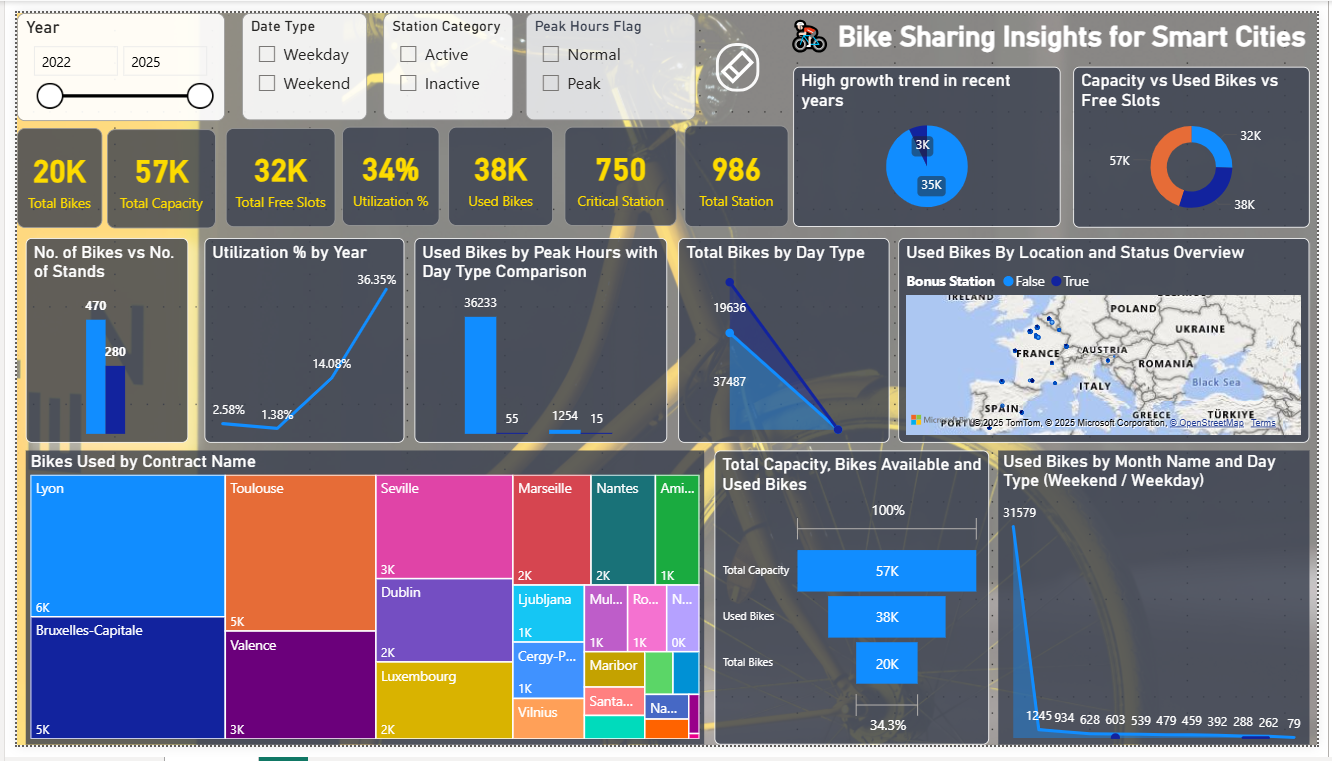

Layout of this report page (visuals, bound fields, positions):
{"tool":"powerbi","page":{"name":"Page 1","canvas":[1280,720],"ordinal":0},"visuals":[{"type":"card","fields":{"Values":["Bike_Measures.Total Bikes"]},"box":[0,113.2,83.7,98.5],"z":0},{"type":"card","fields":{"Values":["Bike_Measures.Total Stands"]},"box":[205.5,113.2,108.3,97.2],"z":1000},{"type":"card","fields":{"Values":["Bike_Measures.Total Capacity"]},"box":[88.6,114.5,107.1,97.2],"z":2000},{"type":"card","fields":{"Values":["Bike_Measures.Utilization %"]},"box":[320,112,96,97.2],"z":3000},{"type":"card","fields":{"Values":["Bike_Measures.Critical Station"]},"box":[539.1,112,110.8,97.2],"z":4000},{"type":"card","fields":{"Values":["Bike_Measures.Used Bikes"]},"box":[424.6,112,103.4,97.2],"z":5000},{"type":"textbox","title":"🚴🏻 Bike Sharing Insights for Smart Cities ","box":[744.6,0,535.4,52.9],"z":6000},{"type":"clusteredColumnChart","title":"No. of Bikes vs No. of Stands","fields":{"Y":["Bike_Measures.No_Bike_Station","Bike_Measures.No_of_Stand_Station"]},"box":[8.6,221.5,160,201.8],"z":7000},{"type":"donutChart","title":"Capacity vs Used Bikes vs Free Slots","fields":{"Y":["Bike_Measures.Total Free Slots","Bike_Measures.Used Bikes","Bike_Measures.Total Capacity"]},"box":[1040,52.9,232.6,158.8],"z":8000},{"type":"slicer","title":"Year","fields":{"Values":["Date_datas.Year"]},"box":[0,0,205.1,106.2],"z":9000},{"type":"slicer","title":"Date Type","fields":{"Values":["Bike_Usage_Datas.Day Type (Weekend / Weekday)"]},"box":[221.5,0,123.1,105.8],"z":10000},{"type":"slicer","title":"Station Category","fields":{"Values":["Bike_Usage_Datas.Station Status Category"]},"box":[360.6,0,128,105.8],"z":11000},{"type":"slicer","title":"Peak Hours Flag","fields":{"Values":["Bike_Usage_Datas.Peak Hours Flag"]},"box":[500.9,0,167.4,105.8],"z":12000},{"type":"clusteredColumnChart","title":"Used Bikes by Peak Hours  with Day Type Comparison","fields":{"Category":["Bike_Usage_Datas.Peak Hours Flag"],"Y":["Bike_Measures.Used Bikes"],"Series":["Bike_Usage_Datas.Day Type (Weekend / Weekday)"]},"box":[391.4,221.5,248.6,201.8],"z":13000},{"type":"lineChart","fields":{"Category":["Date_datas.Year"],"Y":["Bike_Measures.Utilization %"]},"box":[184.6,221.5,196.9,201.8],"z":14000},{"type":"pieChart","title":"High growth trend in recent years","fields":{"Category":["Date_datas.Year (groups)"],"Y":["Bike_Measures.Used Bikes"]},"box":[764.3,52.9,263.4,157.5],"z":15000},{"type":"map","title":"Used Bikes By Location and Status Overview","fields":{"Y":["Station datas.Latitude"],"X":["Station datas.Longitude"],"Size":["Bike_Measures.Used Bikes"],"Series":["Bike_Usage_Datas.Bonus Station"]},"box":[867.7,221.5,404.9,201.8],"z":16000},{"type":"treemap","title":"Bikes Used by Contract Name","fields":{"Values":["Bike_Measures.Used Bikes"],"Group":["Bike_Usage_Datas.Contract Name"]},"box":[8.6,430.8,668.3,289.2],"z":17000},{"type":"stackedAreaChart","title":"Total Bikes by Day Type ","fields":{"Category":["Bike_Usage_Datas.Day Type (Weekend / Weekday)"],"Y":["Bike_Measures.Used Bikes","Bike_Measures.Total Bikes"]},"box":[651.1,221.5,208,201.8],"z":18000},{"type":"areaChart","fields":{"Category":["Date_datas.Month Name"],"Y":["Bike_Measures.Used Bikes"],"Series":["Bike_Usage_Datas.Day Type (Weekend / Weekday)"]},"box":[966.2,430.8,306.5,289.2],"z":19000},{"type":"funnel","title":"Total Capacity, Bikes Available and Used Bikes","fields":{"Y":["Bike_Measures.Total Capacity","Bike_Measures.Used Bikes","Bike_Measures.Total Bikes"]},"box":[686.8,430.8,270.8,289.2],"z":20000},{"type":"actionButton","box":[688,29.5,43.1,48],"z":21000},{"type":"card","fields":{"Values":["Bike_Measures.Total Station"]},"box":[657.2,110.8,102.2,99.7],"z":22000}]}

Visuals, with their boxes in screenshot pixels (x1, y1, x2, y2), scaled from the page's 1280x720 canvas onto the 1332x761 screenshot:
card - Bike_Measures.Total Bikes: [left=0, top=120, right=87, bottom=224]
card - Bike_Measures.Total Stands: [left=214, top=120, right=327, bottom=222]
card - Bike_Measures.Total Capacity: [left=92, top=121, right=204, bottom=224]
card - Bike_Measures.Utilization %: [left=333, top=118, right=433, bottom=221]
card - Bike_Measures.Critical Station: [left=561, top=118, right=676, bottom=221]
card - Bike_Measures.Used Bikes: [left=442, top=118, right=549, bottom=221]
"🚴🏻 Bike Sharing Insights for Smart Cities " textbox: [left=775, top=0, right=1331, bottom=56]
"No. of Bikes vs No. of Stands" clusteredColumnChart: [left=9, top=234, right=175, bottom=447]
"Capacity vs Used Bikes vs Free Slots" donutChart: [left=1082, top=56, right=1324, bottom=224]
"Year" slicer: [left=0, top=0, right=213, bottom=112]
"Date Type" slicer: [left=230, top=0, right=359, bottom=112]
"Station Category" slicer: [left=375, top=0, right=508, bottom=112]
"Peak Hours Flag" slicer: [left=521, top=0, right=695, bottom=112]
"Used Bikes by Peak Hours  with Day Type Comparison" clusteredColumnChart: [left=407, top=234, right=666, bottom=447]
lineChart - Date_datas.Year x Bike_Measures.Utilization %: [left=192, top=234, right=397, bottom=447]
"High growth trend in recent years" pieChart: [left=795, top=56, right=1069, bottom=222]
"Used Bikes By Location and Status Overview" map: [left=903, top=234, right=1324, bottom=447]
"Bikes Used by Contract Name" treemap: [left=9, top=455, right=704, bottom=760]
"Total Bikes by Day Type " stackedAreaChart: [left=678, top=234, right=894, bottom=447]
areaChart - Date_datas.Month Name x Bike_Measures.Used Bikes: [left=1005, top=455, right=1324, bottom=760]
"Total Capacity, Bikes Available and Used Bikes" funnel: [left=715, top=455, right=997, bottom=760]
actionButton: [left=716, top=31, right=761, bottom=82]
card - Bike_Measures.Total Station: [left=684, top=117, right=790, bottom=222]
